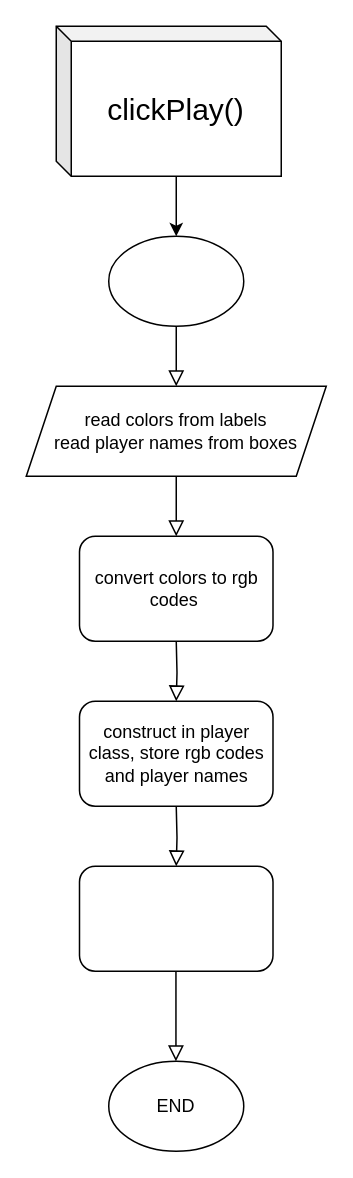
This 353x1178 diagram has some shape labels left out. The centre of each missing label's shape, as x and y in pixels:
"move to next form, pass rgb codes and player names" goes at point 175,918.
"START" goes at point 175,280.
